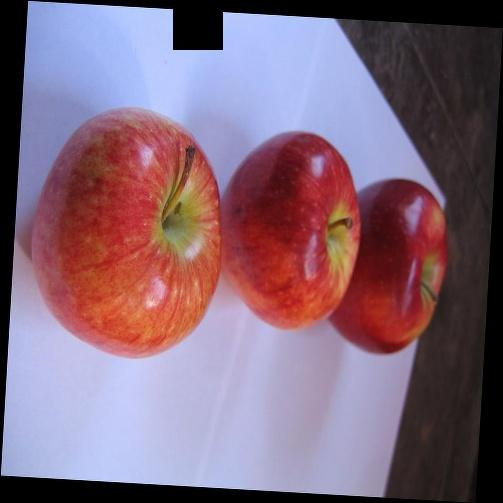red apple: (29, 107, 224, 358), (218, 132, 362, 338), (329, 175, 454, 360)
